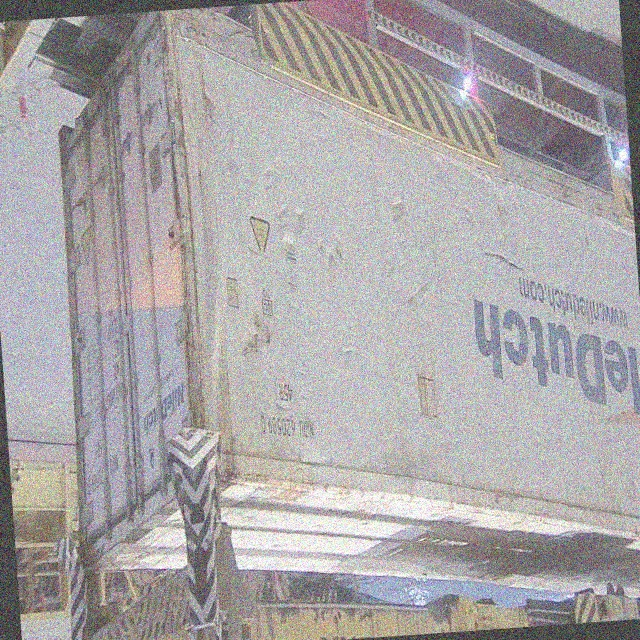Dent: (379, 184, 441, 325), (269, 191, 353, 283), (238, 307, 281, 383), (480, 235, 532, 292)
Rusty: (177, 309, 244, 506)
